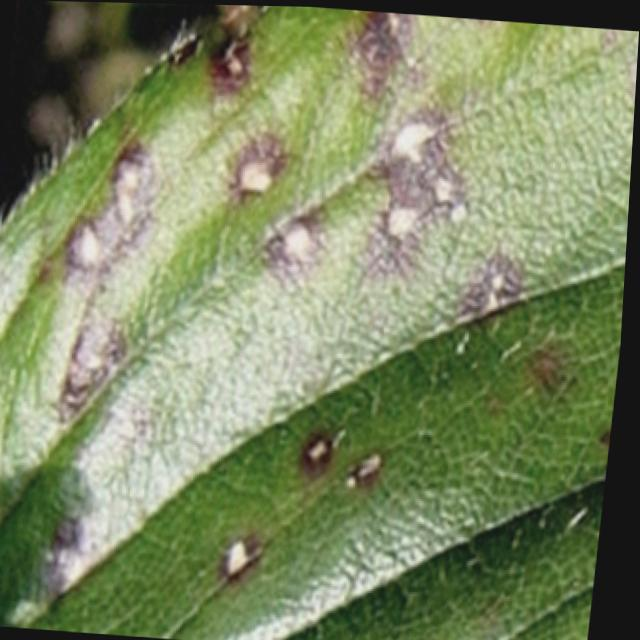Leaf Spot: (0, 5, 639, 640)
